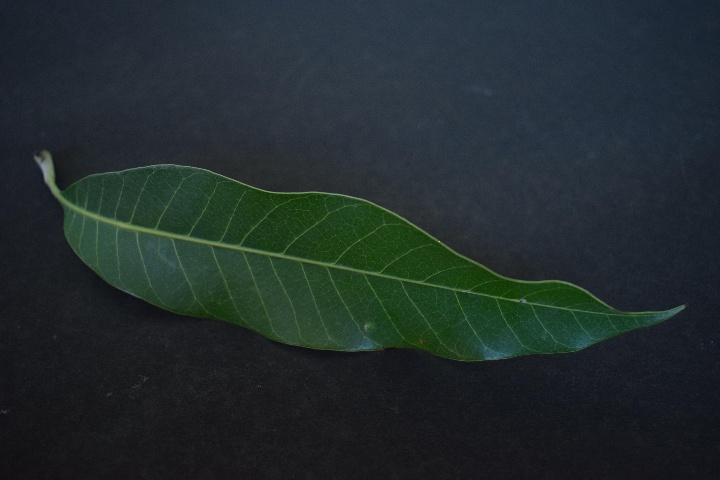healthy: (47, 159, 676, 379)
